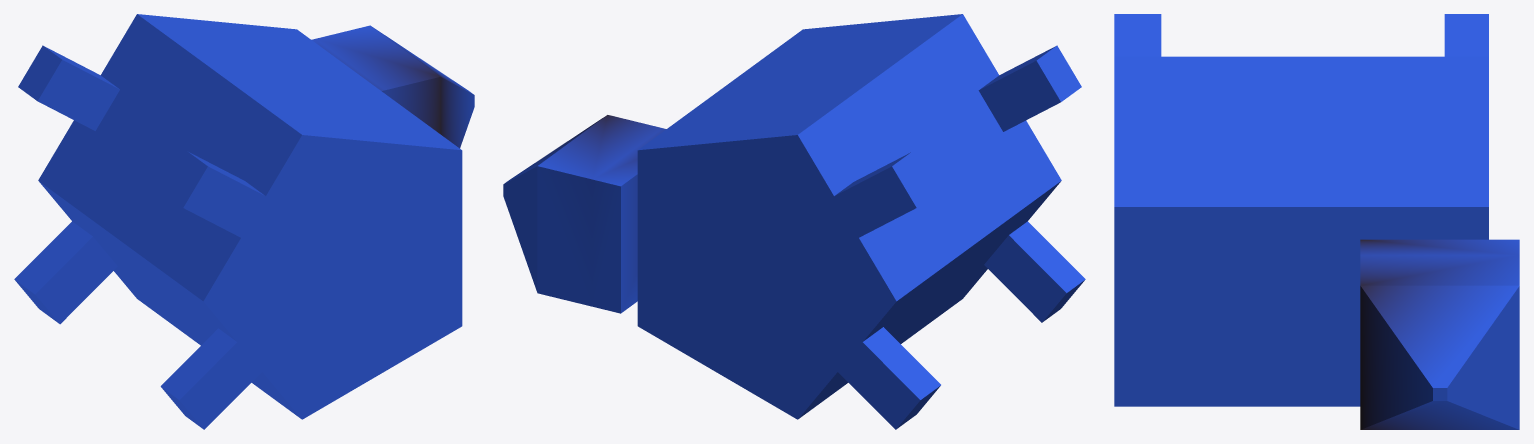
The model's file is tio_nadal.fbx.
The picture shows the model from 3 angles, left to right: view 1: azimuth 30°, elevation 25°; view 2: azimuth 150°, elevation 25°; view 3: azimuth 270°, elevation 25°; orthographic projection. The views are drawn at different scales.
Visible parts, largest first — view 1: tio; view 2: tio; view 3: tio.
Part boxes in pixels (x1=…): tio: x1=14, y1=14, x2=474, y2=429; tio: x1=503, y1=14, x2=1085, y2=429; tio: x1=1114, y1=14, x2=1519, y2=429.
Bounding box in the file's own units: 4.05 × 2.53 × 2.88.
